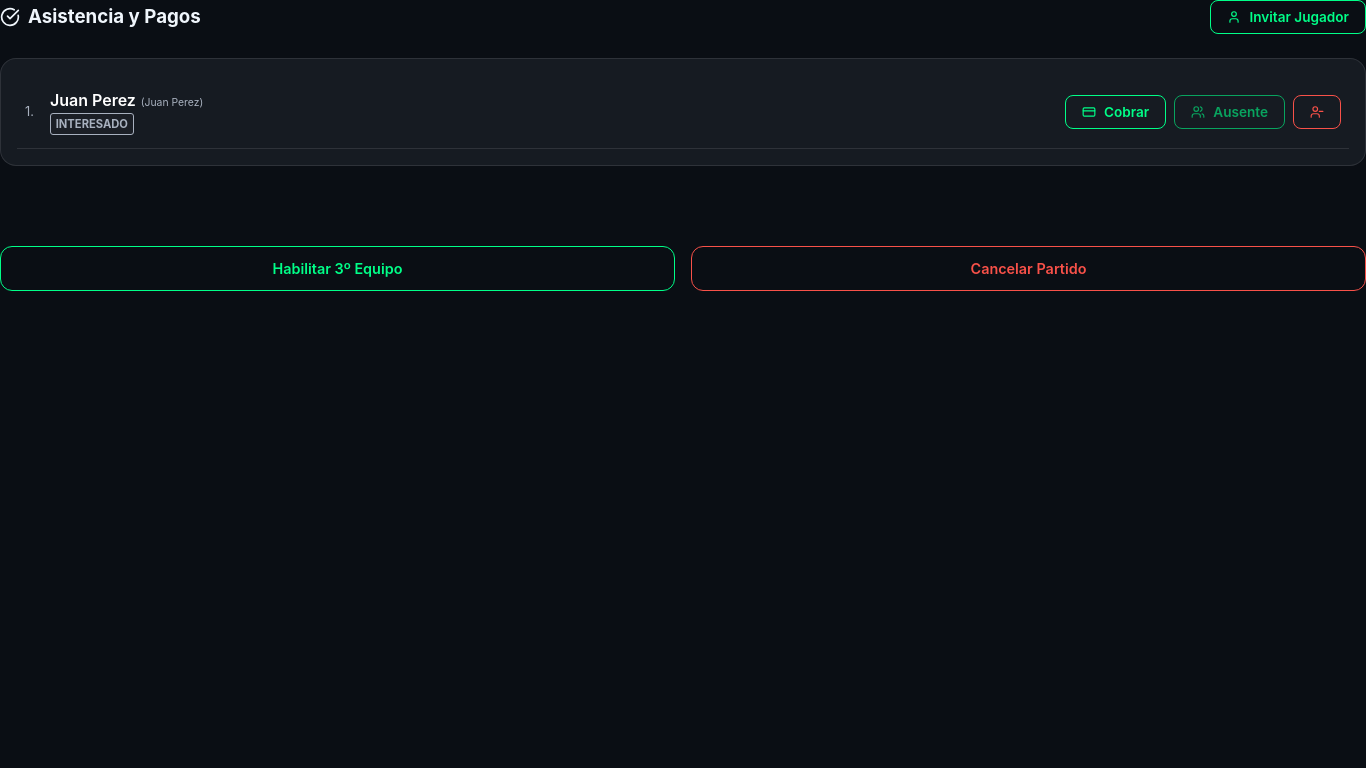
Test: AdminTab › Confirmation Modals › shows confirmation when removing a player
Click remove button
Click the button titled "Retirar del partido": point(1317, 112) [1293,95,1341,129]
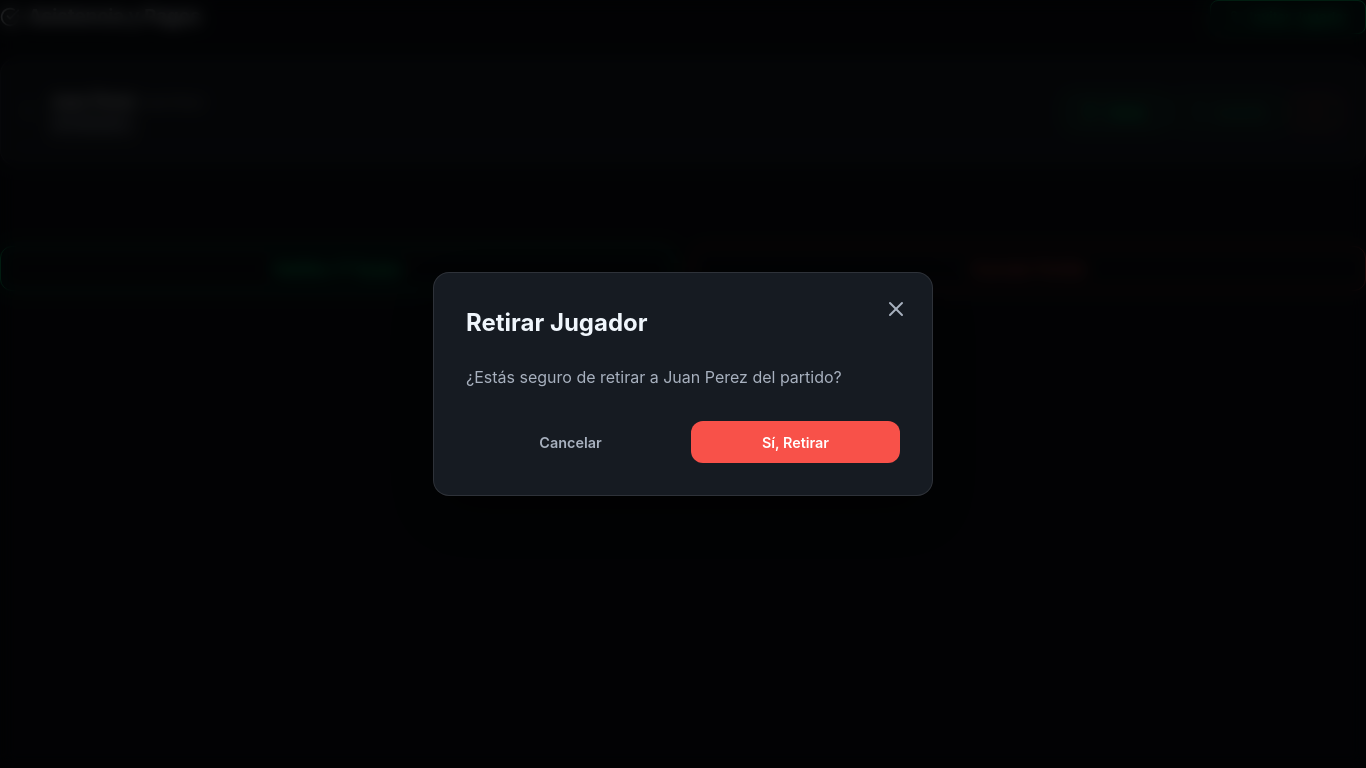
Now the heading "Retirar Jugador" is shown, box [466,308,648,337]
Now the text "¿Estás seguro de retirar a Juan Perez del partido?" is shown, box [466,365,900,389]
